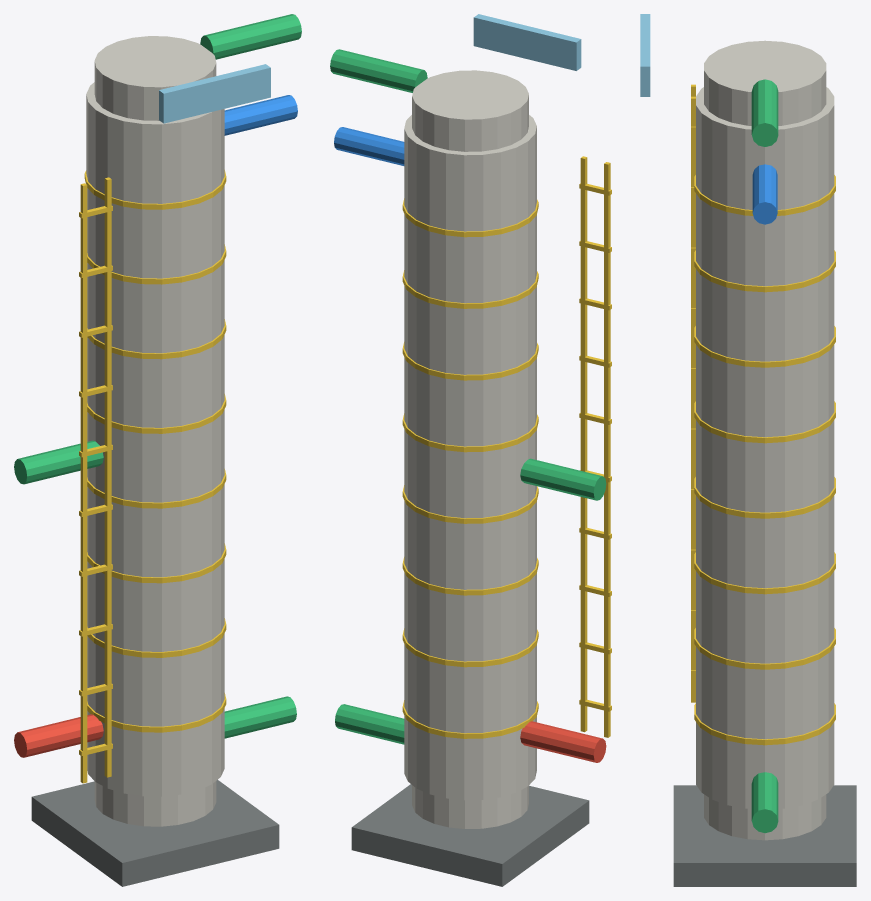
Rendered from distillation column.fbx.
The picture shows the model from 3 angles, left to right: view 1: azimuth 30°, elevation 25°; view 2: azimuth 150°, elevation 25°; view 3: azimuth 270°, elevation 25°; orthographic projection. The views are drawn at different scales.
Parts seen in each view (by area): view 1: Distillation_Static/Tower_Body, Distillation_Static/Base_Block, Distillation_Static/Top_Dome, Distillation_Static/Ladder_Left, Distillation_Static/Ladder_Right, Distillation_UI_Target/Purity_Gauge_Placeholder, Distillation_Static/Bottom_Dome, Distillation_Static/Top_To_Condenser, Distillation_Interactive/Reboiler_Steam_In_Heat, Distillation_Static/Feed_Inlet, Distillation_Static/Product_Outlet, Distillation_Interactive/Reflux_Return_Flow (+8 smaller); view 2: Distillation_Static/Tower_Body, Distillation_Static/Base_Block, Distillation_Static/Top_Dome, Distillation_Static/Ladder_Left, Distillation_Static/Ladder_Right, Distillation_UI_Target/Purity_Gauge_Placeholder, Distillation_Static/Bottom_Dome, Distillation_Static/Top_To_Condenser, Distillation_Static/Feed_Inlet, Distillation_Interactive/Reboiler_Steam_In_Heat, Distillation_Static/Product_Outlet, Distillation_Interactive/Reflux_Return_Flow (+8 smaller); view 3: Distillation_Static/Tower_Body, Distillation_Static/Base_Block, Distillation_Static/Top_Dome, Distillation_Static/Bottom_Dome, Distillation_Static/Ladder_Left, Distillation_Static/Top_To_Condenser, Distillation_Static/Product_Outlet, Distillation_Interactive/Reflux_Return_Flow, Distillation_Interactive/Tray_Light_6, Distillation_Interactive/Tray_Light_2, Distillation_Interactive/Tray_Light_4, Distillation_Interactive/Tray_Light_5 (+5 smaller).
Part boxes in pixels (x1=…): Distillation_Static/Tower_Body: x1=86, y1=82, x2=224, y2=796; Distillation_Static/Base_Block: x1=31, y1=779, x2=279, y2=886; Distillation_Static/Top_Dome: x1=94, y1=36, x2=216, y2=120; Distillation_Static/Ladder_Left: x1=104, y1=177, x2=111, y2=777; Distillation_Static/Ladder_Right: x1=80, y1=183, x2=87, y2=783; Distillation_UI_Target/Purity_Gauge_Placeholder: x1=159, y1=64, x2=270, y2=123; Distillation_Static/Bottom_Dome: x1=94, y1=781, x2=216, y2=826; Distillation_Static/Top_To_Condenser: x1=200, y1=14, x2=301, y2=59; Distillation_Interactive/Reboiler_Steam_In_Heat: x1=14, y1=714, x2=103, y2=757; Distillation_Static/Feed_Inlet: x1=14, y1=440, x2=103, y2=484; Distillation_Static/Product_Outlet: x1=224, y1=696, x2=296, y2=738; Distillation_Interactive/Reflux_Return_Flow: x1=224, y1=95, x2=297, y2=135; Distillation_Static/Tower_Body: x1=404, y1=115, x2=536, y2=800; Distillation_Static/Base_Block: x1=351, y1=784, x2=589, y2=886; Distillation_Static/Top_Dome: x1=412, y1=70, x2=528, y2=151; Distillation_Static/Ladder_Left: x1=580, y1=156, x2=587, y2=732; Distillation_Static/Ladder_Right: x1=604, y1=162, x2=610, y2=737; Distillation_UI_Target/Purity_Gauge_Placeholder: x1=473, y1=14, x2=581, y2=70; Distillation_Static/Bottom_Dome: x1=412, y1=785, x2=528, y2=828; Distillation_Static/Top_To_Condenser: x1=330, y1=49, x2=427, y2=92; Distillation_Static/Feed_Inlet: x1=520, y1=458, x2=606, y2=500; Distillation_Interactive/Reboiler_Steam_In_Heat: x1=520, y1=721, x2=606, y2=762; Distillation_Static/Product_Outlet: x1=335, y1=704, x2=404, y2=744; Distillation_Interactive/Reflux_Return_Flow: x1=334, y1=127, x2=404, y2=165; Distillation_Static/Tower_Body: x1=696, y1=87, x2=834, y2=808; Distillation_Static/Base_Block: x1=673, y1=785, x2=856, y2=886; Distillation_Static/Top_Dome: x1=704, y1=40, x2=826, y2=125; Distillation_Static/Bottom_Dome: x1=704, y1=794, x2=826, y2=840; Distillation_Static/Ladder_Left: x1=691, y1=96, x2=695, y2=702; Distillation_Static/Top_To_Condenser: x1=751, y1=79, x2=778, y2=146; Distillation_Static/Product_Outlet: x1=751, y1=772, x2=778, y2=833; Distillation_Interactive/Reflux_Return_Flow: x1=752, y1=164, x2=777, y2=224; Distillation_Interactive/Tray_Light_6: x1=694, y1=326, x2=835, y2=367; Distillation_Interactive/Tray_Light_2: x1=694, y1=628, x2=835, y2=669; Distillation_Interactive/Tray_Light_4: x1=694, y1=477, x2=835, y2=518; Distillation_Interactive/Tray_Light_5: x1=694, y1=401, x2=835, y2=443.
Size of the model in its own units: 192 by 535 by 130.
